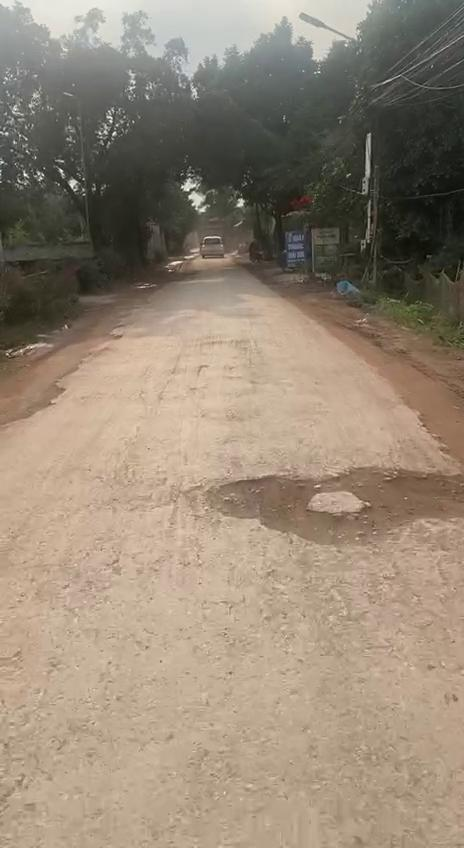pothole: (209, 460, 464, 558)
